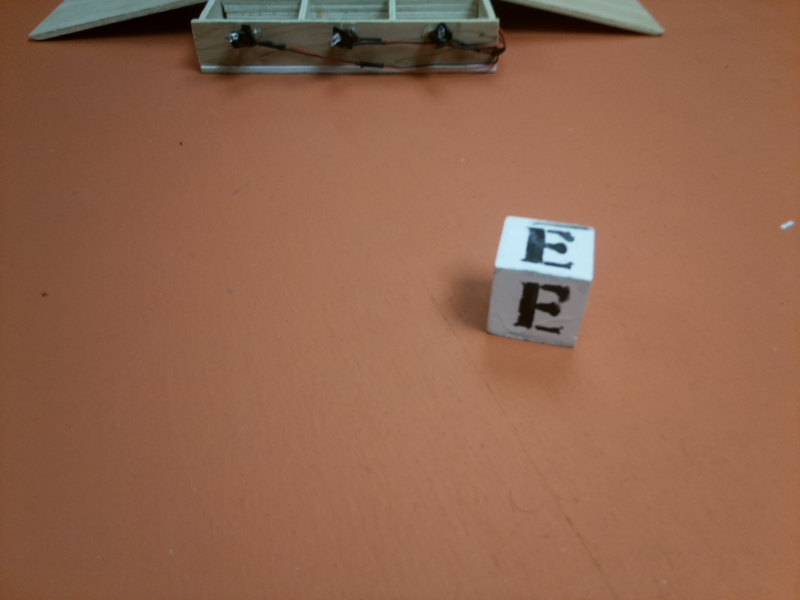blockE: (477, 221, 599, 342)
side: (192, 1, 495, 80)
slope: (502, 1, 667, 45), (27, 1, 203, 42)
